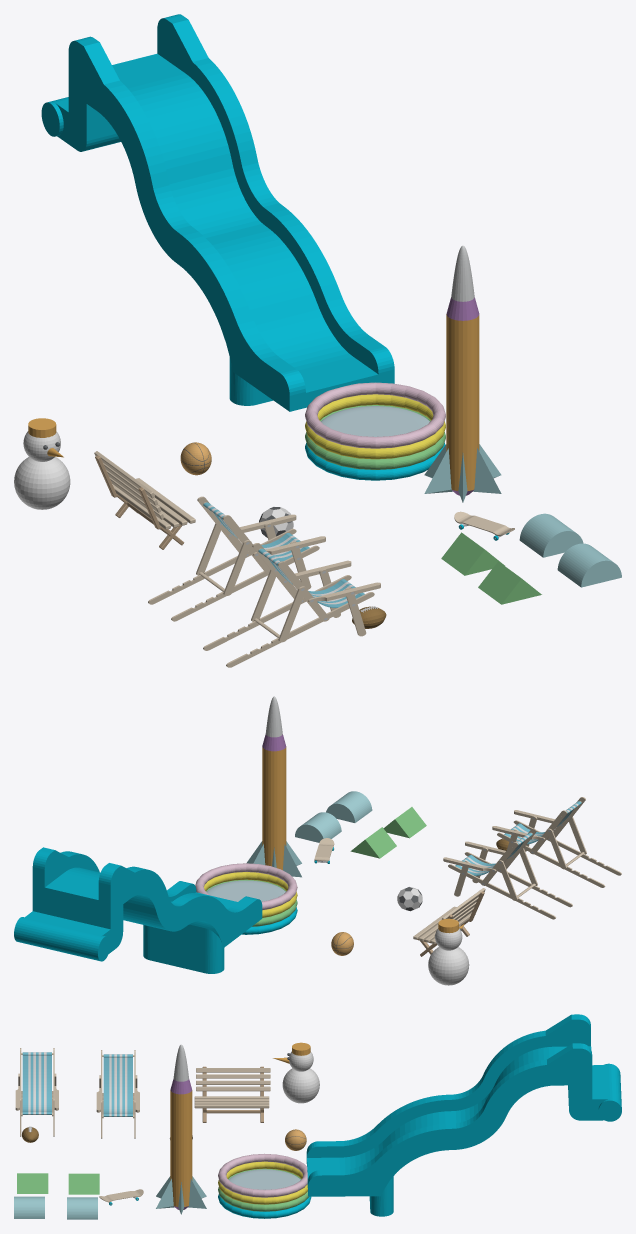
File: Magnificent Trug (2).glb
3 renders of one model, top to bottom at view 1: azimuth 30°, elevation 25°; view 2: azimuth 150°, elevation 25°; view 3: azimuth 270°, elevation 25°, orthographic. The views are drawn at different scales.
Visible parts, largest first — view 1: Mesh_Mesh_head_geo.001_lambert2SG.001; view 2: Mesh_Mesh_head_geo.001_lambert2SG.001; view 3: Mesh_Mesh_head_geo.001_lambert2SG.001.
Boxes of the visible parts, bbox=[...] form: Mesh_Mesh_head_geo.001_lambert2SG.001: bbox=[14, 14, 621, 667]; Mesh_Mesh_head_geo.001_lambert2SG.001: bbox=[14, 696, 621, 985]; Mesh_Mesh_head_geo.001_lambert2SG.001: bbox=[14, 1014, 621, 1219].
Bounding box in the file's own units: 0.194 × 0.118 × 0.3904.
